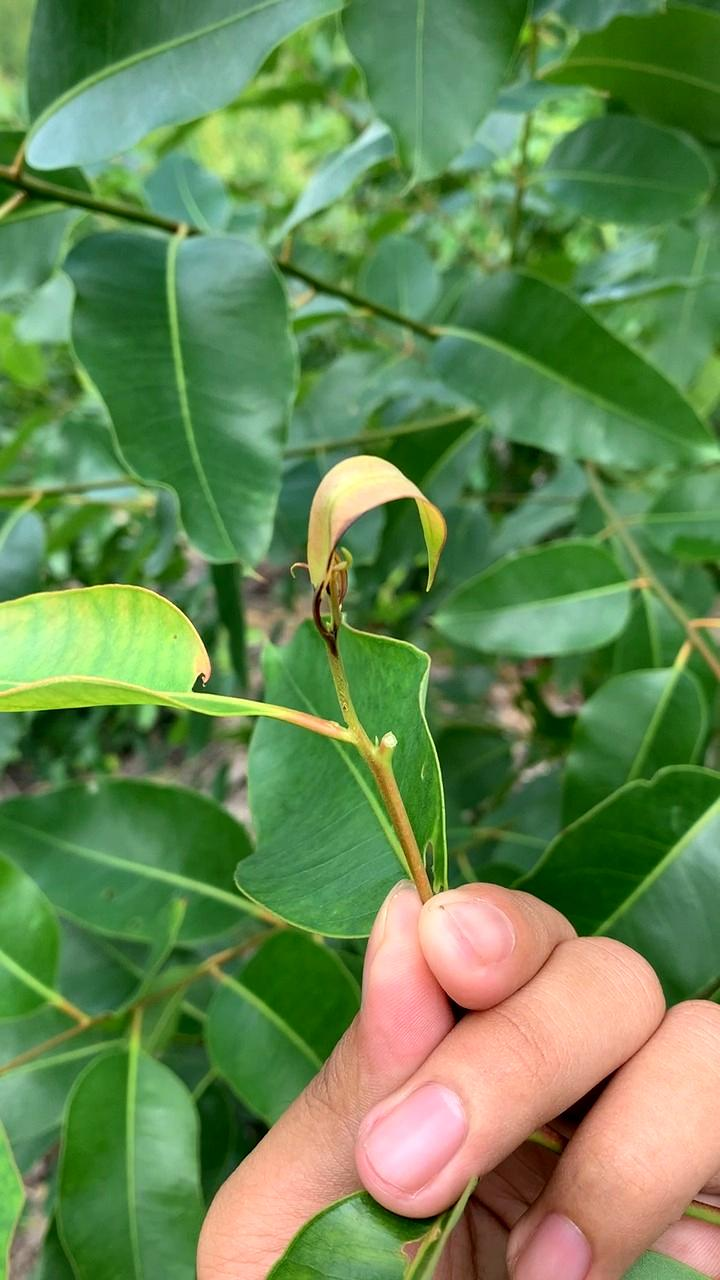Helopeltis-Withered Sprout: (291, 450, 463, 638)
